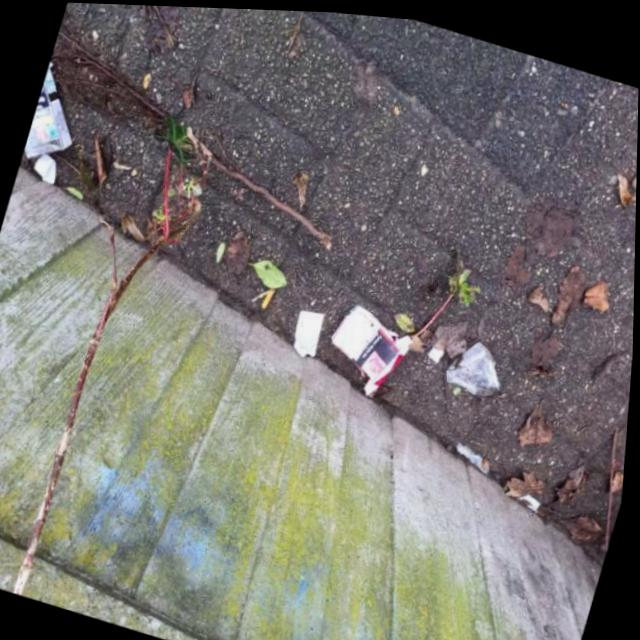Paper: (325, 297, 417, 398), (21, 57, 82, 167), (444, 334, 506, 395), (292, 306, 325, 357)
